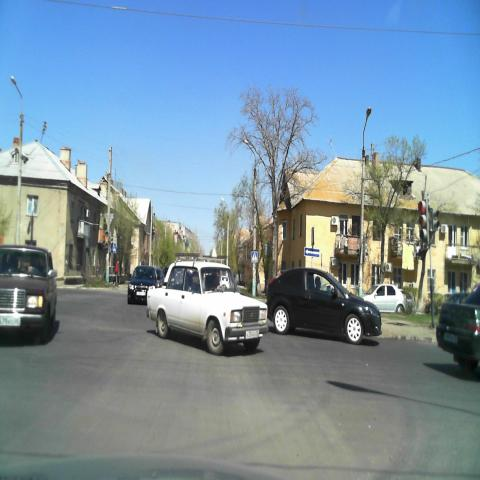5_7_2: (304, 246, 320, 258)
